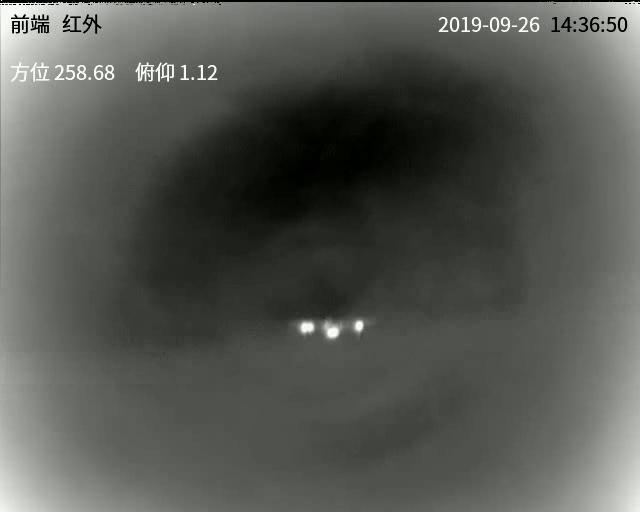DRONE: (300, 318, 367, 342)
